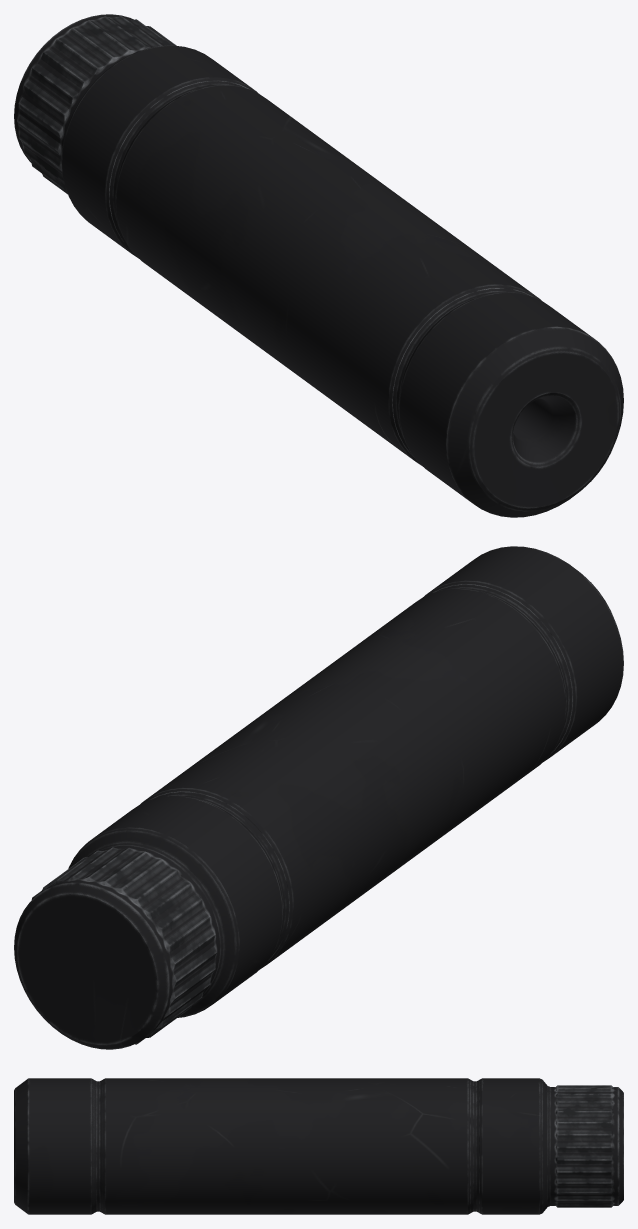
File: Suppressor_Rifle.fbx
3 renders of one model, top to bottom at view 1: azimuth 30°, elevation 25°; view 2: azimuth 150°, elevation 25°; view 3: azimuth 270°, elevation 25°, orthographic. The views are drawn at different scales.
Parts seen in each view (by area): view 1: Body; view 2: Body; view 3: Body.
Part boxes in pixels (box(x1,y1,x2,y2)): Body: box(14, 14, 623, 517); Body: box(14, 546, 623, 1049); Body: box(14, 1078, 623, 1214).
Bounding box in the file's own units: 0.038 × 0.038 × 0.17.
